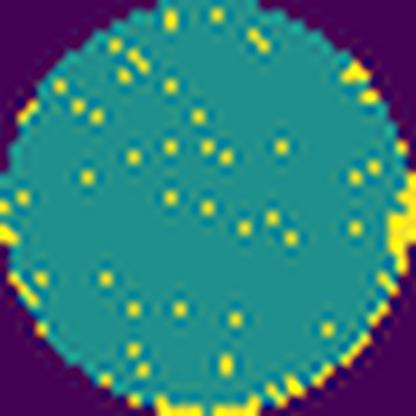Edge-Loc: (143, 382, 261, 416), (383, 173, 415, 283), (334, 47, 374, 97)
